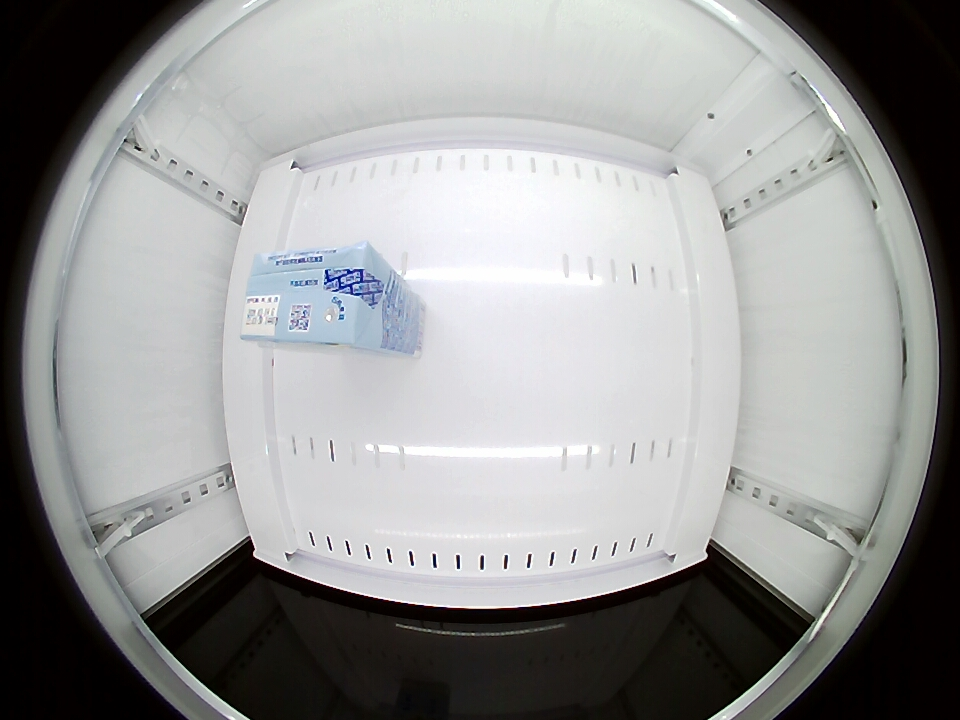weitanaiditang: (239, 240, 391, 347)
